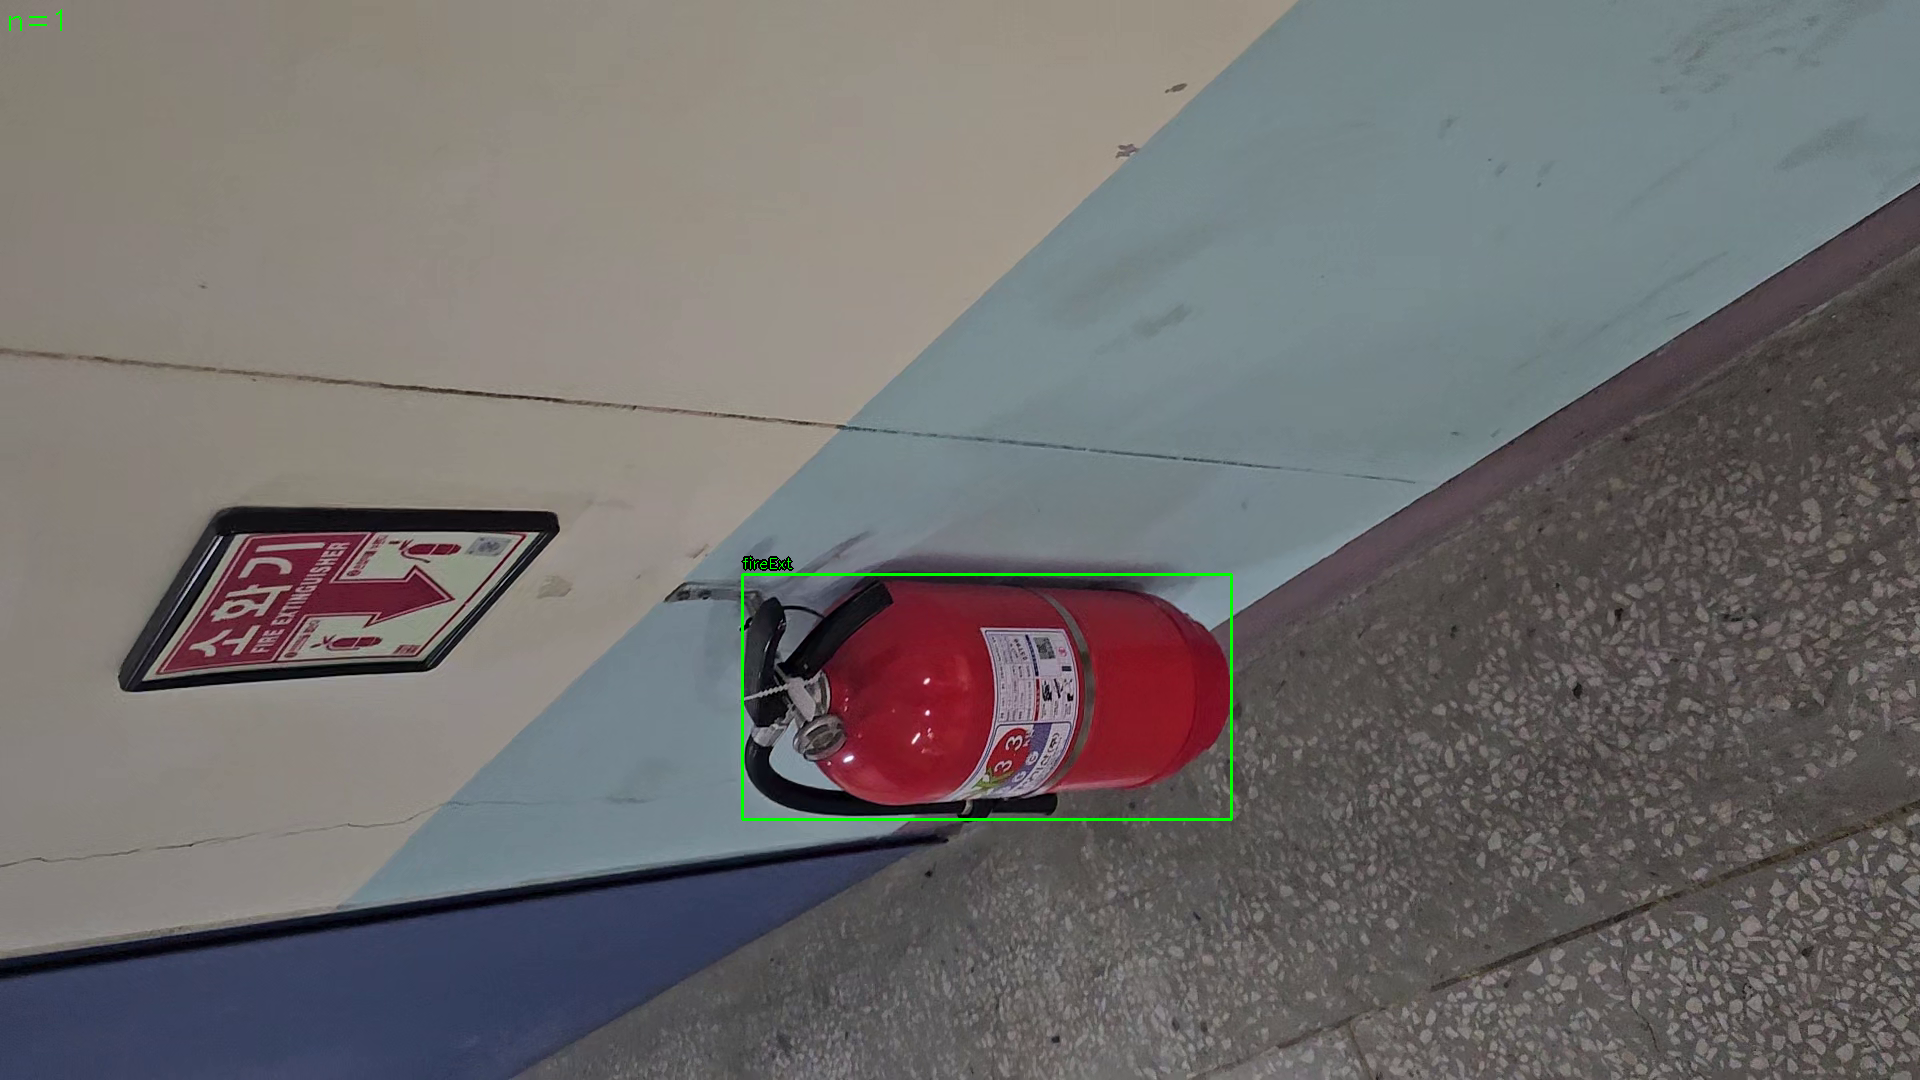lane: (742, 574, 1232, 820)
